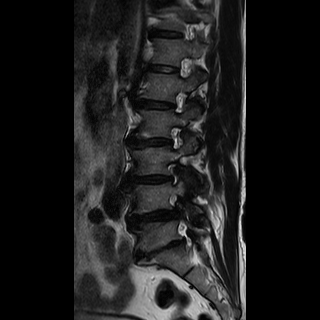RFS0: (163, 121, 187, 153), (166, 87, 191, 117)
RFS2: (162, 155, 184, 188)
